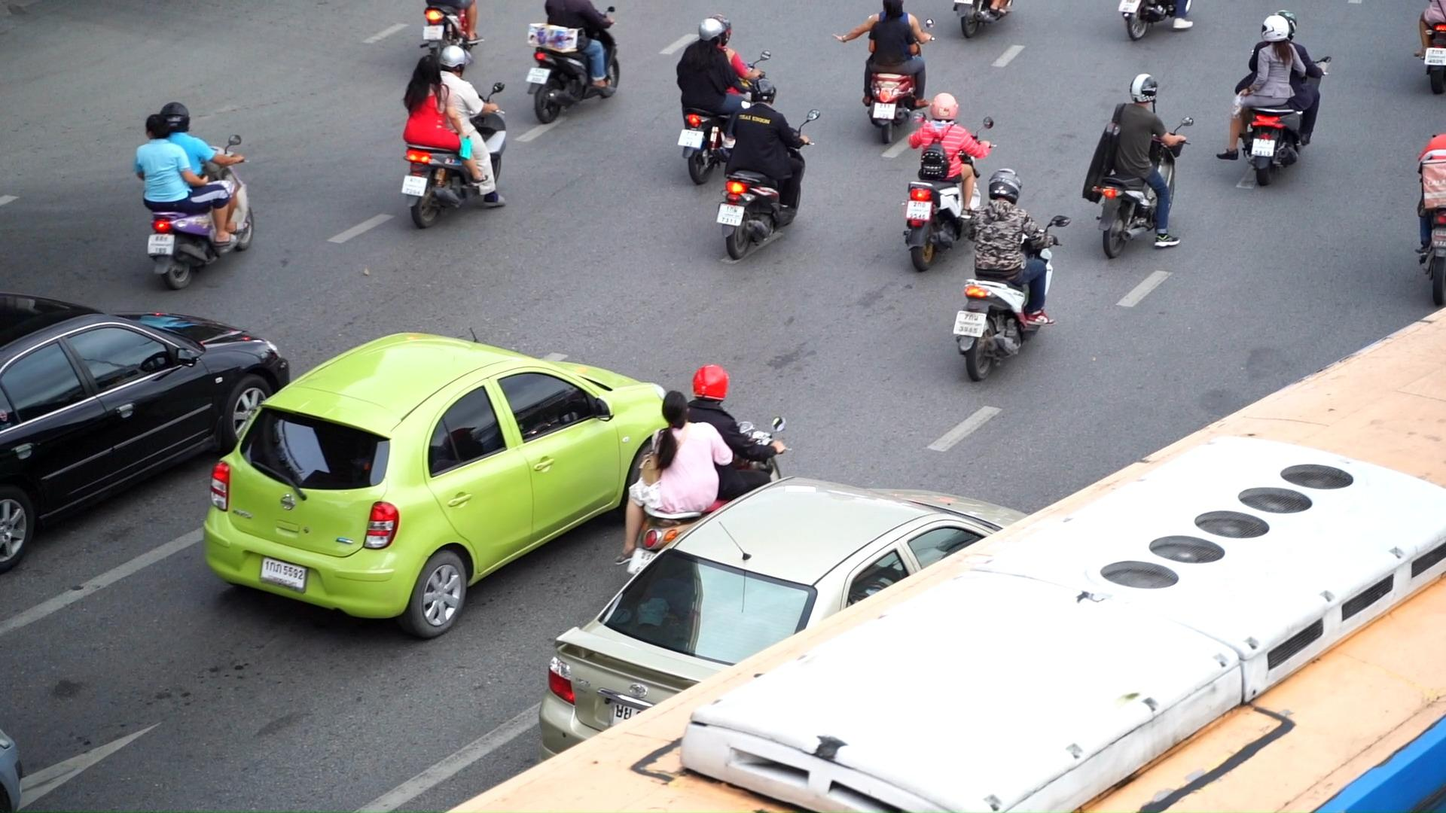driver: (613, 364, 792, 576), (953, 168, 1070, 381), (133, 102, 254, 291), (1082, 73, 1194, 259), (1217, 10, 1332, 185), (401, 45, 507, 229), (716, 78, 820, 259), (899, 91, 997, 272), (676, 14, 771, 184), (829, 0, 936, 145), (526, 0, 620, 123)
helmet: (692, 364, 730, 404), (988, 168, 1023, 205), (440, 46, 472, 78), (160, 102, 190, 133), (1129, 73, 1158, 104), (930, 92, 958, 121), (698, 18, 726, 46), (1261, 15, 1289, 43), (707, 15, 731, 47), (1274, 10, 1297, 41), (751, 78, 776, 106)
no-helmet: (662, 391, 690, 429), (412, 54, 440, 81), (145, 113, 171, 139), (886, 0, 904, 20)
